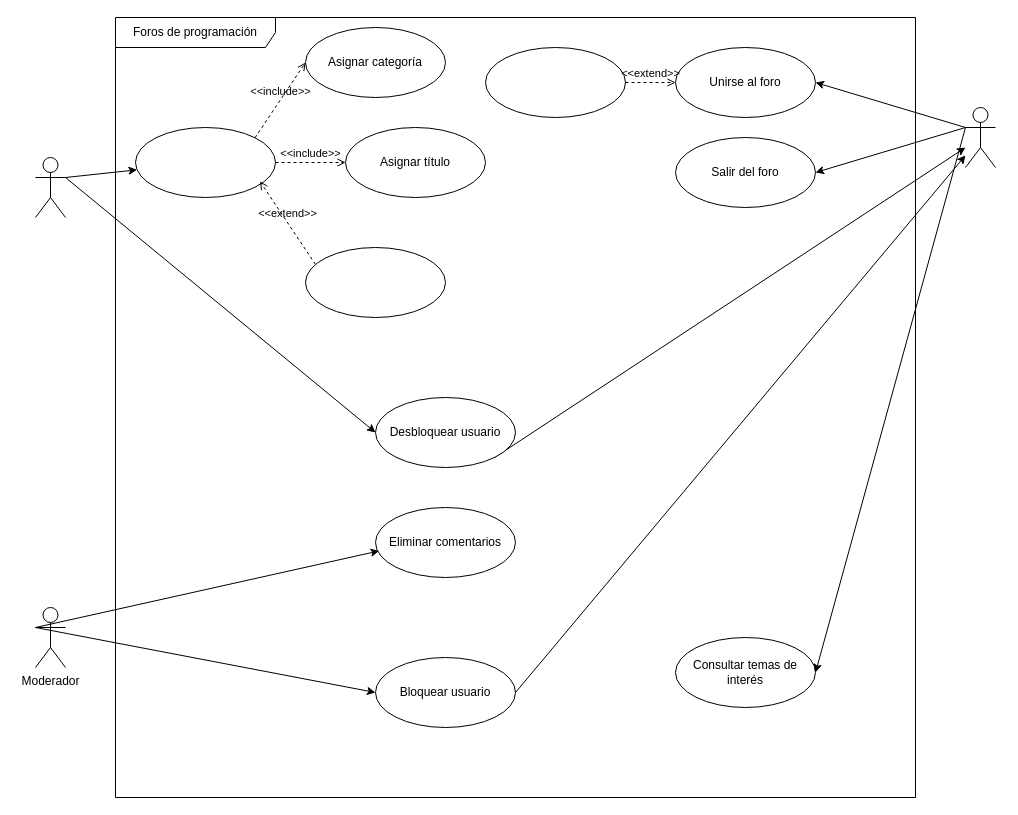
Some shapes in this 1018 by 815 pixel diagram are drawn without their labels. Here are the shapes that lost their labels. From the top down, the centre of each, then its label:
(555,82): Publicar comentarios
(980,137): Usuario
(205,162): Planificar foro
(50,187): Coordinador
(375,282): Asignar moderador
